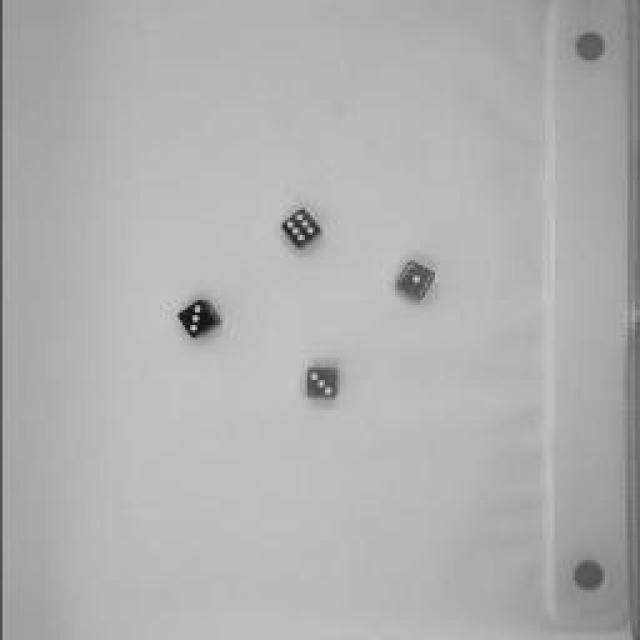dice_1: (390, 255, 440, 307)
dice_3: (171, 291, 224, 344), (299, 359, 346, 406)
dice_6: (275, 205, 325, 253)
